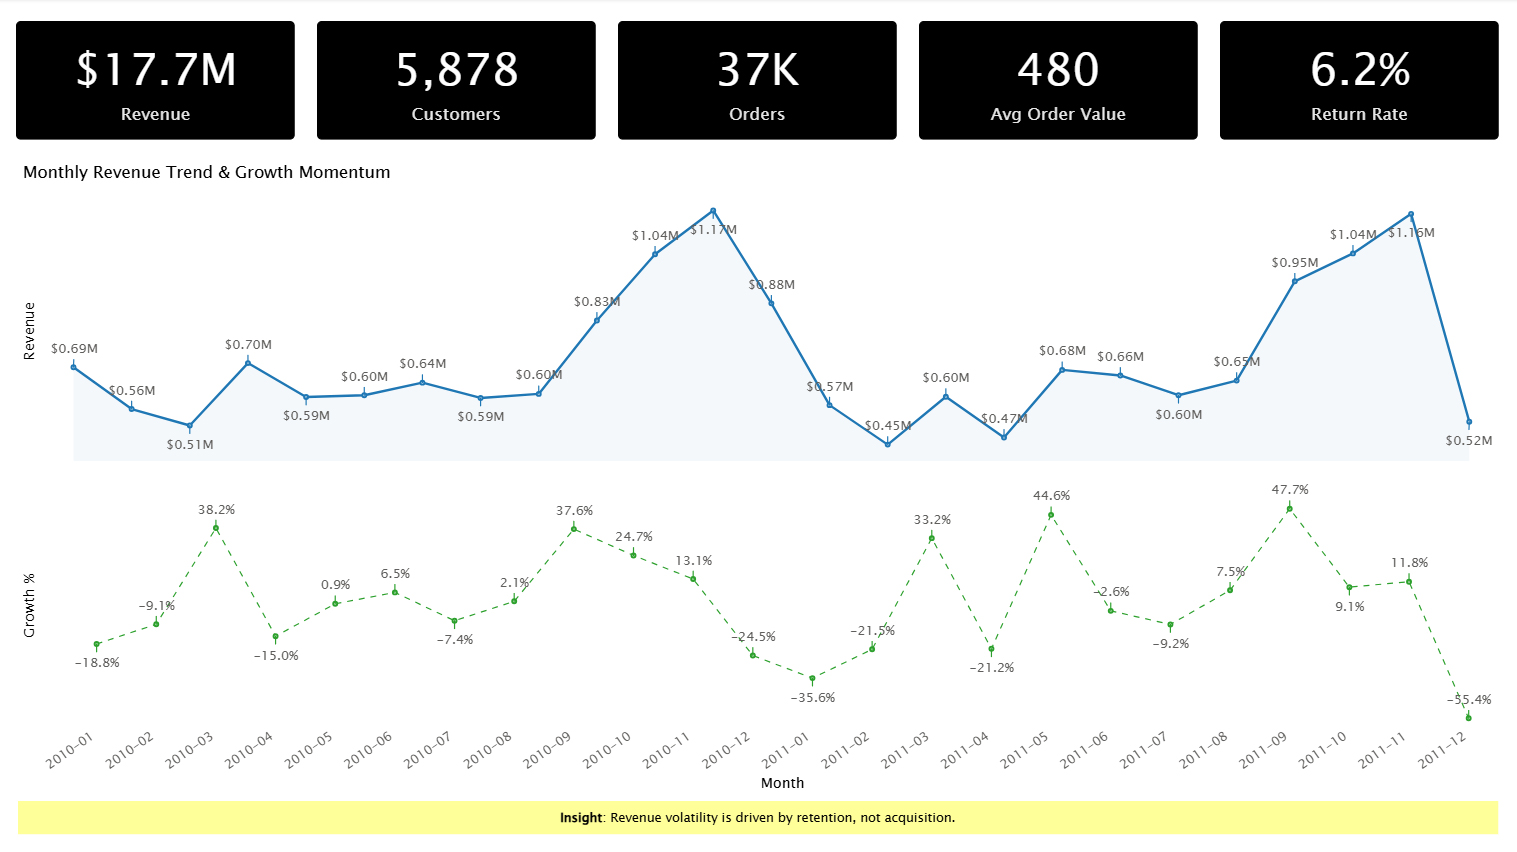

The page's visual inventory and layout, read from the dashboard file:
{"tool":"powerbi","page":{"name":"Executive Overview","canvas":[1280,720],"ordinal":0},"visuals":[{"type":"card","fields":{"Values":["Sum(bi_kpi_overview.total_revenue)"]},"box":[14.6,19.2,235.4,100],"z":0},{"type":"card","fields":{"Values":["Sum(bi_kpi_overview.total_customers)"]},"box":[268.5,19.2,235,100],"z":1000},{"type":"card","fields":{"Values":["Sum(bi_kpi_overview.total_orders)"]},"box":[522,19.2,235,100],"z":2000},{"type":"card","fields":{"Values":["Sum(bi_kpi_overview.avg_order_value)"]},"box":[775.5,19.2,235,100],"z":3000},{"type":"card","fields":{"Values":["Sum(bi_returns_overview.return_rate_pct)"]},"box":[1029.1,19.2,235.4,100],"z":4000},{"type":"lineChart","fields":{"Category":["bi_monthly_revenue.month"],"Y":["Sum(bi_monthly_revenue.mom_growth_pct)"]},"box":[15,395.7,1249,280.8],"z":5000},{"type":"textbox","box":[15.7,676.8,1247.6,28.5],"z":6000},{"type":"lineChart","title":"Monthly Revenue Trend & Growth Momentum","fields":{"Category":["bi_monthly_revenue.month"],"Y":["Sum(bi_monthly_revenue.monthly_revenue)"]},"box":[15,136.9,1249,258.8],"z":7000}]}

Visuals, with their boxes in screenshot pixels (x1, y1, x2, y2), scaled from the page's 1280x720 canvas onto the 1517x852 screenshot:
card - Sum(bi_kpi_overview.total_revenue): [left=17, top=23, right=296, bottom=141]
card - Sum(bi_kpi_overview.total_customers): [left=318, top=23, right=597, bottom=141]
card - Sum(bi_kpi_overview.total_orders): [left=619, top=23, right=897, bottom=141]
card - Sum(bi_kpi_overview.avg_order_value): [left=919, top=23, right=1198, bottom=141]
card - Sum(bi_returns_overview.return_rate_pct): [left=1220, top=23, right=1499, bottom=141]
lineChart - bi_monthly_revenue.month x Sum(bi_monthly_revenue.mom_growth_pct): [left=18, top=468, right=1498, bottom=801]
textbox: [left=19, top=801, right=1497, bottom=835]
"Monthly Revenue Trend & Growth Momentum" lineChart: [left=18, top=162, right=1498, bottom=468]
